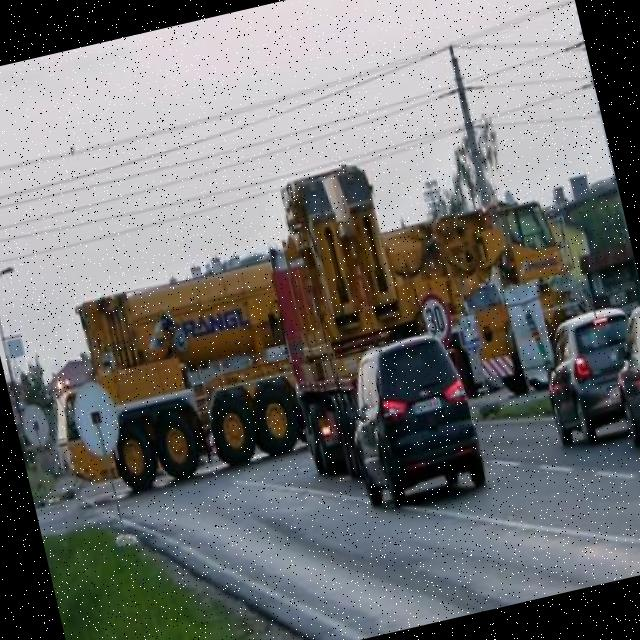Mobile Crane: (72, 186, 600, 496)
